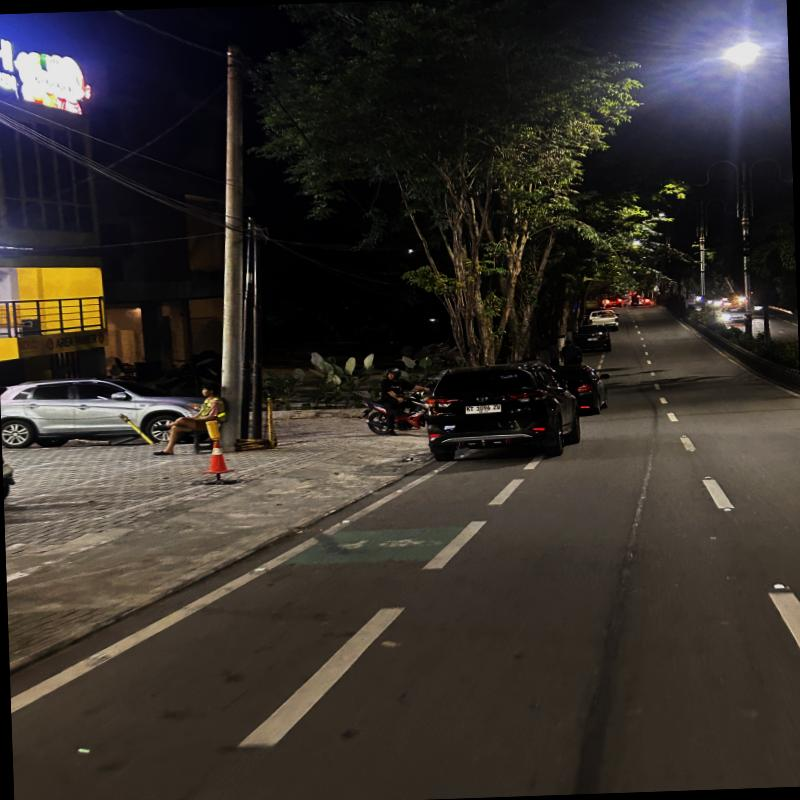license plate on a car: (462, 402, 505, 416)
